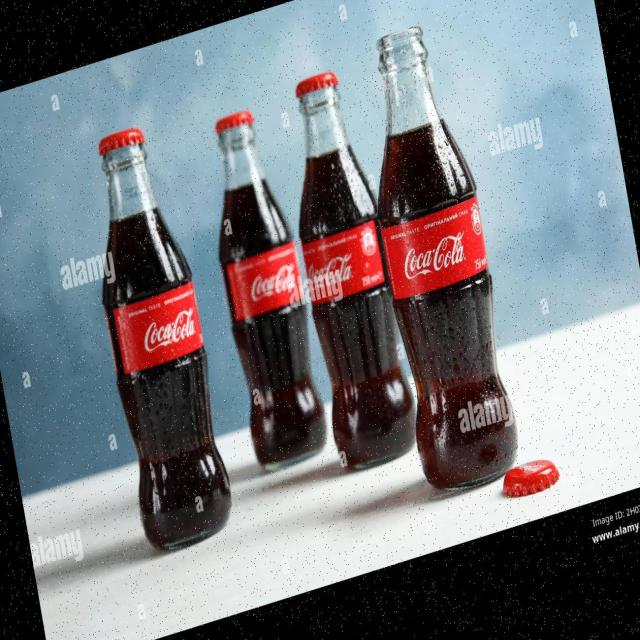coca-cola: (344, 1, 532, 512), (67, 108, 243, 566), (273, 51, 427, 489), (192, 97, 335, 487)
